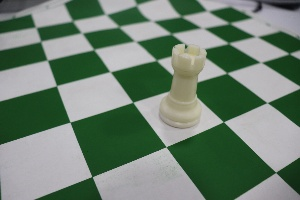white_rook: (156, 32, 213, 135)
